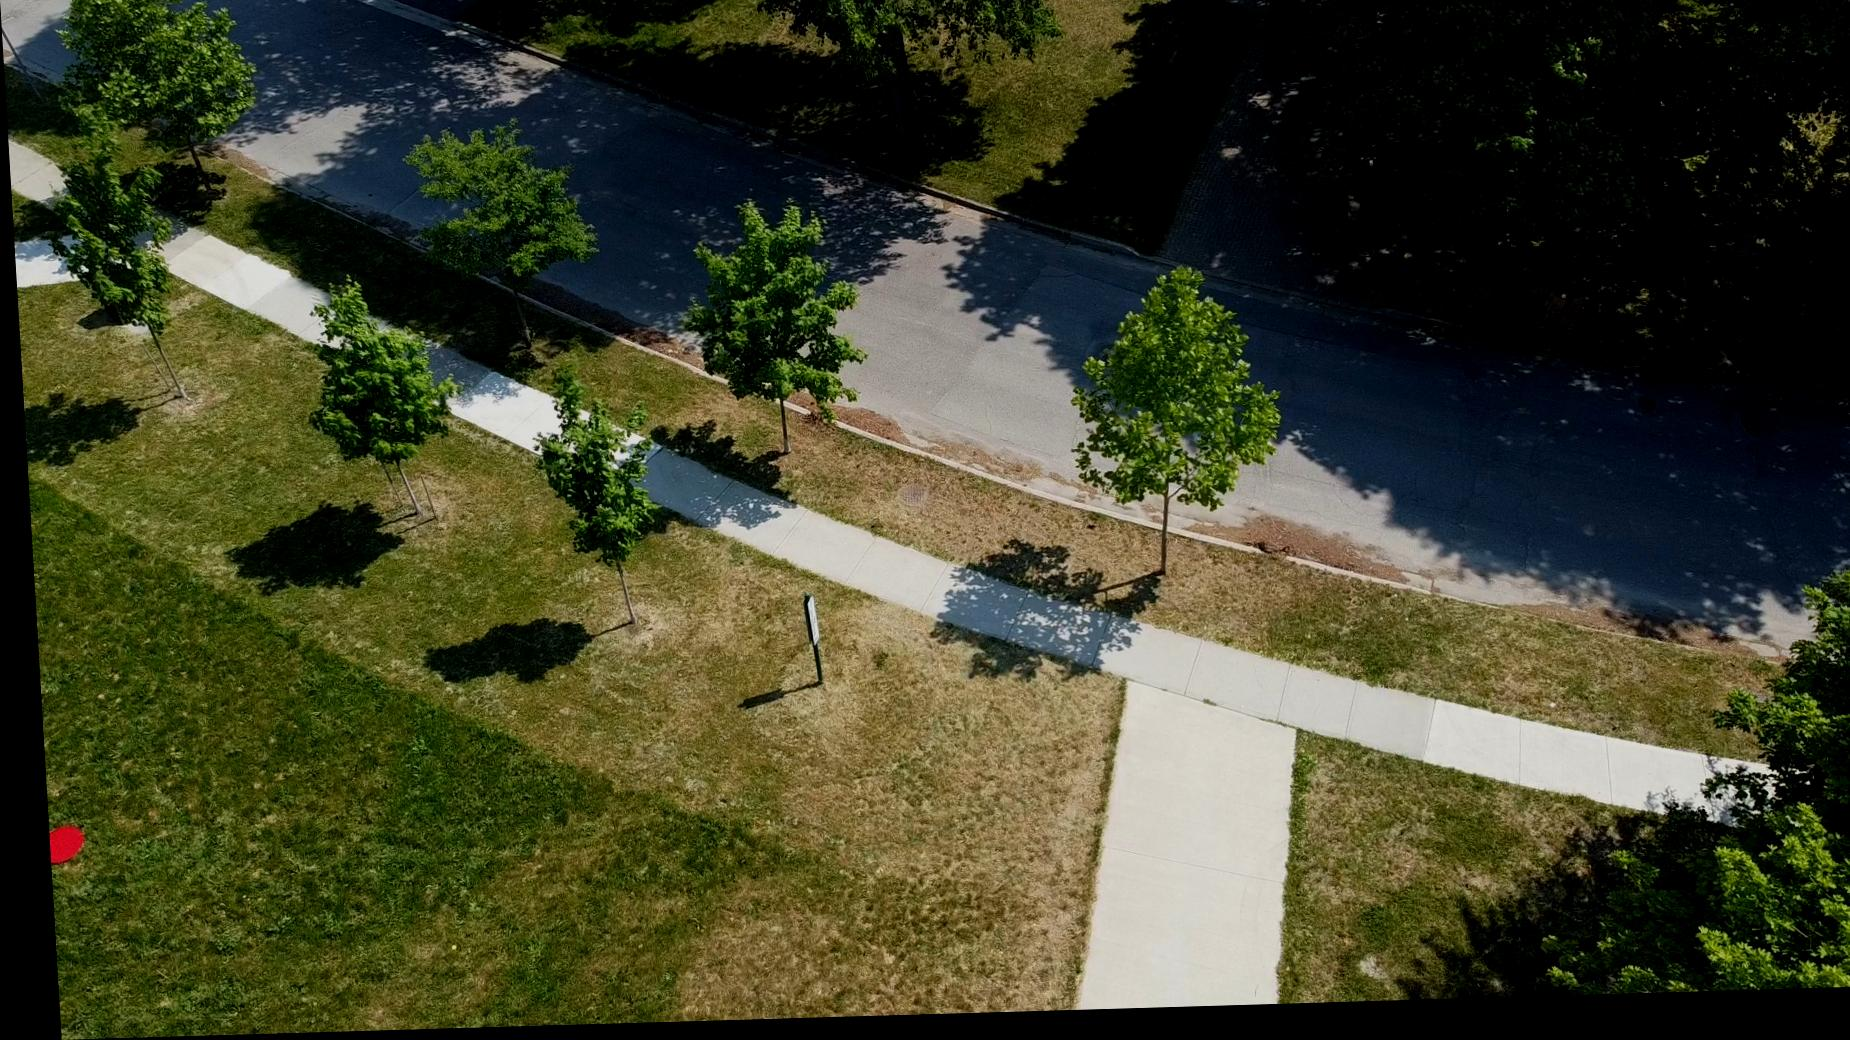Red: (38, 822, 76, 863)
